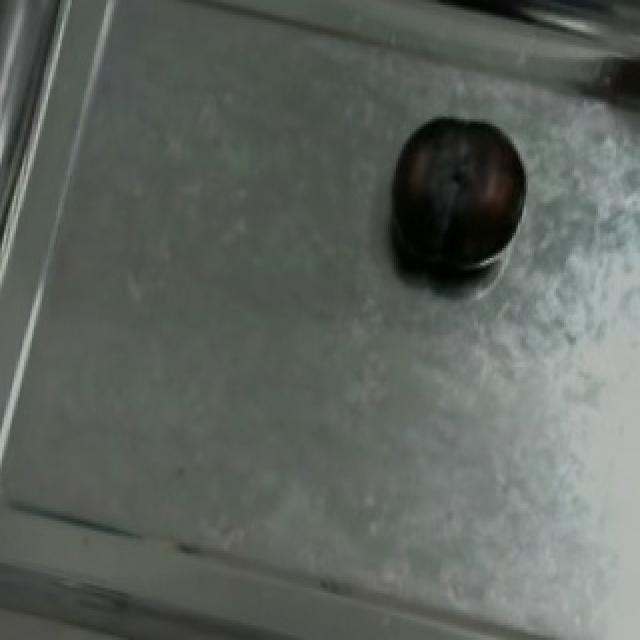Fruit: (376, 99, 550, 293)
